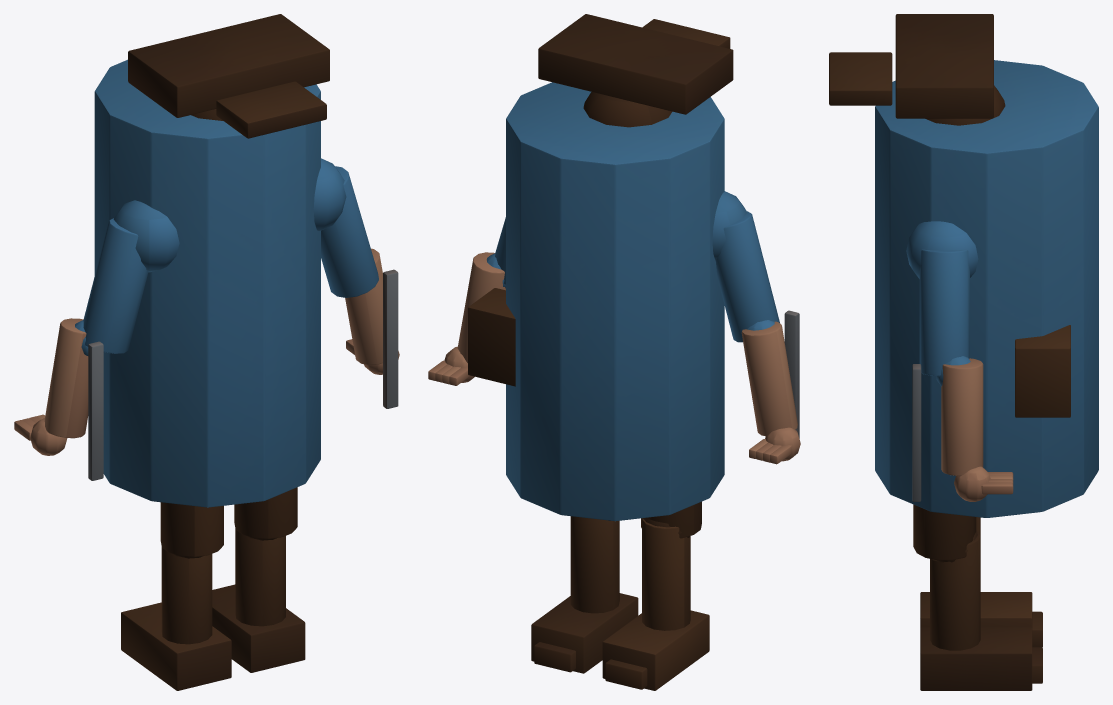
Rendered from unit_freetown_highwayman.fbx.
The picture shows the model from 3 angles, left to right: view 1: azimuth 30°, elevation 25°; view 2: azimuth 150°, elevation 25°; view 3: azimuth 270°, elevation 25°; orthographic projection. The views are drawn at different scales.
Visible parts, largest first — view 1: unit_freetown_highwayman; view 2: unit_freetown_highwayman; view 3: unit_freetown_highwayman.
Boxes of the visible parts, x1=… form: unit_freetown_highwayman: x1=14, y1=14, x2=399, y2=690; unit_freetown_highwayman: x1=428, y1=14, x2=800, y2=690; unit_freetown_highwayman: x1=829, y1=14, x2=1098, y2=690.
Bounding box in the file's own units: 1.18 × 1.92 × 0.7693.
